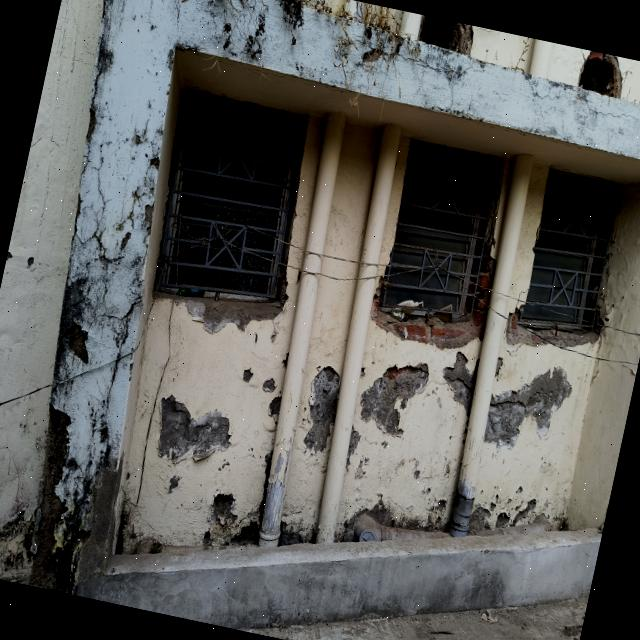crack: (75, 141, 141, 414), (358, 45, 481, 77)
peeling: (29, 406, 90, 594), (484, 367, 571, 450), (158, 395, 230, 463), (303, 366, 339, 453), (443, 351, 476, 413), (598, 266, 616, 358), (64, 323, 87, 363), (143, 204, 153, 232), (150, 156, 159, 169)
spalling: (371, 183, 500, 349), (173, 265, 288, 331), (360, 363, 428, 435), (505, 303, 603, 348), (467, 498, 536, 534), (86, 107, 96, 142)
stain_mould: (89, 0, 363, 110)
